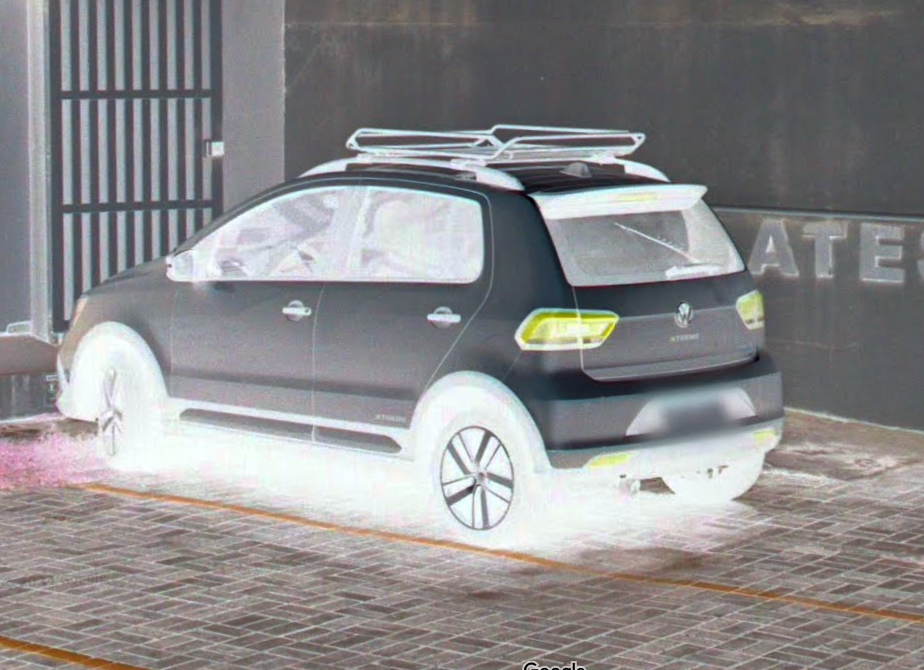car: (45, 118, 790, 547)
